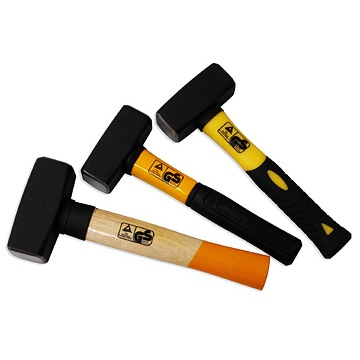hammer: (163, 56, 360, 259), (10, 153, 268, 294), (78, 101, 303, 260)
